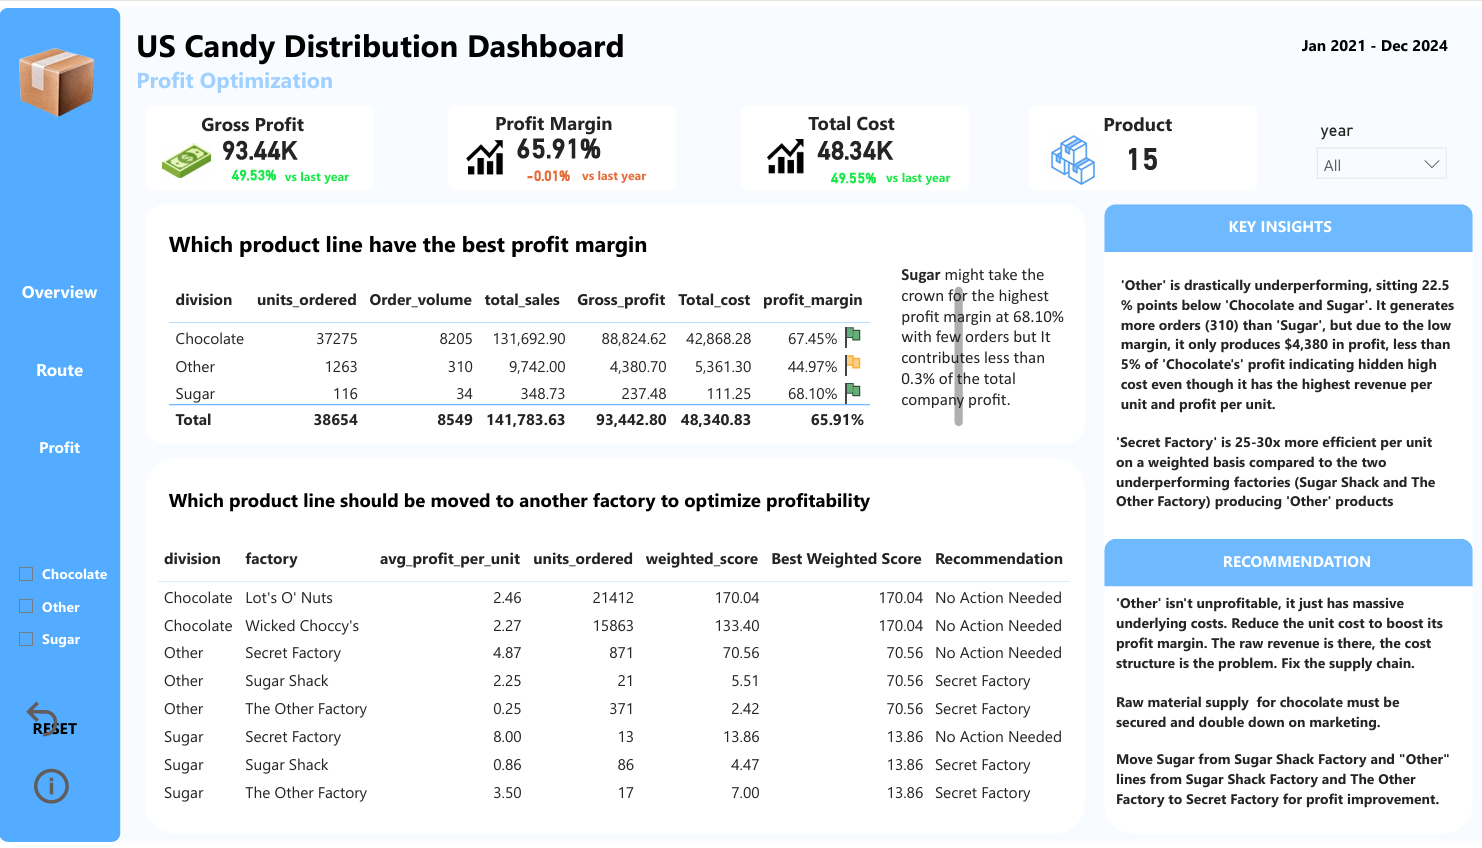

What the dashboard file says about the page in this screenshot:
{"tool":"powerbi","page":{"name":"Profit","canvas":[1280,720],"ordinal":2},"visuals":[{"type":"shape","box":[0,0,106.4,720],"z":0},{"type":"textbox","box":[113.6,9.1,508.2,49.1],"z":1000},{"type":"textbox","box":[113.6,44.5,215.5,40.9],"z":2000},{"type":"shape","box":[952.7,170,317.3,541.8],"z":3000},{"type":"shape","box":[127.3,170,809.1,206.4],"z":4000},{"type":"shape","box":[127.3,389.1,809.1,322.7],"z":5000},{"type":"tableEx","fields":{"Values":["dim_products.division","dim_products.factory","problem_statement.avg_profit_per_unit","kpi.units_ordered","problem_statement.weighted_score","problem_statement.Best Weighted Score","problem_statement.Recommendation"]},"box":[131.8,458.2,801.8,235.5],"z":6000},{"type":"tableEx","fields":{"Values":["dim_products.division","kpi.units_ordered","kpi.Order_volume","kpi.total_sales","kpi.Gross_profit","kpi.Total_cost","problem_statement.profit_margin"]},"box":[141.8,235.5,694.5,137.3],"z":7000},{"type":"textbox","box":[141.8,186.4,537.3,49.1],"z":8000},{"type":"textbox","box":[141.8,409.1,650.9,49.1],"z":9000},{"type":"shape","box":[127.3,85.5,196.4,72.7],"z":10000},{"type":"shape","box":[388.2,85.5,196.4,72.7],"z":11000},{"type":"shape","box":[640,85.5,196.4,72.7],"z":12000},{"type":"shape","box":[888.2,85.5,196.4,72.7],"z":13000},{"type":"slicer","fields":{"Values":["calendar.year"]},"box":[1126.4,92.7,131.8,65.5],"z":14000},{"type":"card","fields":{"Values":["problem_statement.profit_margin"]},"box":[410.9,85.5,143.6,72.7],"z":15000},{"type":"card","fields":{"Values":["kpi.Gross_profit"]},"box":[141.8,85.5,166.4,76.4],"z":16000},{"type":"card","fields":{"Values":["kpi.product_count"]},"box":[926.4,103.6,119.1,51.8],"z":17000},{"type":"card","fields":{"Values":["kpi.Total_cost"]},"box":[674.5,90.9,126.4,64.5],"z":18000},{"type":"slicer","fields":{"Values":["dim_products.division"]},"box":[4.5,469.1,97.3,110.9],"z":19000},{"type":"actionButton","box":[26.4,650.9,53.6,40],"z":20000},{"type":"pageNavigator","box":[8.2,216.4,90.9,193.6],"z":21000},{"type":"textbox","box":[947.3,85.5,98.2,46.4],"z":22000},{"type":"textbox","box":[692.7,83.6,108.2,31.8],"z":23000},{"type":"textbox","box":[422.7,83.6,149.1,38.2],"z":24000},{"type":"textbox","box":[170,85.5,125.5,36.4],"z":25000},{"type":"textbox","box":[961.8,224.5,300,135.5],"z":26000},{"type":"textbox","box":[958.2,360,300,86.4],"z":27000},{"type":"textbox","box":[958.2,499.1,300,137.3],"z":28000},{"type":"textbox","box":[958.2,632.7,300,70],"z":29000},{"type":"shape","box":[952.7,170,317.3,40.9],"z":30000},{"type":"shape","box":[952.7,458.2,317.3,40.9],"z":31000},{"type":"textbox","box":[1055.5,174.5,105.5,32.7],"z":32000},{"type":"textbox","box":[1050,462.7,151.8,32.7],"z":33000},{"type":"textbox","box":[772.7,216.4,153.6,150],"z":34000},{"type":"textbox","box":[498,130.3,66.1,29.2],"z":35000},{"type":"textbox","box":[760,132,66,29],"z":36000},{"type":"textbox","box":[242,131,66,29],"z":37000},{"type":"card","fields":{"Values":["kpi.profit_margin_pct_change"]},"box":[442,132,64,24],"z":38000},{"type":"card","fields":{"Values":["kpi.gross_profit_pct_change"]},"box":[184,132,73,25],"z":39000},{"type":"card","fields":{"Values":["kpi.cost_pct_change"]},"box":[701,134,72,24],"z":40000},{"type":"image","box":[898.7,109.9,54.5,43.8],"z":41000},{"type":"image","box":[142,110.9,41.8,44.7],"z":42000},{"type":"image","box":[399,111.7,39.9,34.6],"z":43000},{"type":"image","box":[657.9,110.8,39.9,34.6],"z":44000},{"type":"textbox","box":[1118.2,19.1,143.6,28.2],"z":45000},{"type":"image","box":[7.1,25.7,91.3,77.1],"z":46000},{"type":"actionButton","box":[18.2,592.7,61.8,40],"z":46001}]}

Visuals, with their boxes in screenshot pixels (x1, y1, x2, y2), scaled from the page's 1280x720 canvas onto the 1482x848 screenshot:
shape: [x1=0, y1=0, x2=123, y2=847]
textbox: [x1=132, y1=11, x2=720, y2=69]
textbox: [x1=132, y1=52, x2=381, y2=101]
shape: [x1=1103, y1=200, x2=1470, y2=838]
shape: [x1=147, y1=200, x2=1084, y2=443]
shape: [x1=147, y1=458, x2=1084, y2=838]
tableEx - dim_products.division x dim_products.factory: [x1=153, y1=540, x2=1081, y2=817]
tableEx - dim_products.division x kpi.units_ordered: [x1=164, y1=277, x2=968, y2=439]
textbox: [x1=164, y1=220, x2=786, y2=277]
textbox: [x1=164, y1=482, x2=918, y2=540]
shape: [x1=147, y1=101, x2=375, y2=186]
shape: [x1=449, y1=101, x2=677, y2=186]
shape: [x1=741, y1=101, x2=968, y2=186]
shape: [x1=1028, y1=101, x2=1256, y2=186]
slicer - calendar.year: [x1=1304, y1=109, x2=1457, y2=186]
card - problem_statement.profit_margin: [x1=476, y1=101, x2=642, y2=186]
card - kpi.Gross_profit: [x1=164, y1=101, x2=357, y2=191]
card - kpi.product_count: [x1=1073, y1=122, x2=1210, y2=183]
card - kpi.Total_cost: [x1=781, y1=107, x2=927, y2=183]
slicer - dim_products.division: [x1=5, y1=552, x2=118, y2=683]
actionButton: [x1=31, y1=767, x2=93, y2=814]
pageNavigator: [x1=9, y1=255, x2=115, y2=483]
textbox: [x1=1097, y1=101, x2=1210, y2=155]
textbox: [x1=802, y1=98, x2=927, y2=136]
textbox: [x1=489, y1=98, x2=662, y2=143]
textbox: [x1=197, y1=101, x2=342, y2=144]
textbox: [x1=1114, y1=264, x2=1461, y2=424]
textbox: [x1=1109, y1=424, x2=1457, y2=526]
textbox: [x1=1109, y1=588, x2=1457, y2=750]
textbox: [x1=1109, y1=745, x2=1457, y2=828]
shape: [x1=1103, y1=200, x2=1470, y2=248]
shape: [x1=1103, y1=540, x2=1470, y2=588]
textbox: [x1=1222, y1=206, x2=1344, y2=244]
textbox: [x1=1216, y1=545, x2=1391, y2=583]
textbox: [x1=895, y1=255, x2=1072, y2=432]
textbox: [x1=577, y1=153, x2=653, y2=188]
textbox: [x1=880, y1=155, x2=956, y2=190]
textbox: [x1=280, y1=154, x2=357, y2=188]
card - kpi.profit_margin_pct_change: [x1=512, y1=155, x2=586, y2=184]
card - kpi.gross_profit_pct_change: [x1=213, y1=155, x2=298, y2=185]
card - kpi.cost_pct_change: [x1=812, y1=158, x2=895, y2=186]
image: [x1=1041, y1=129, x2=1104, y2=181]
image: [x1=164, y1=131, x2=213, y2=183]
image: [x1=462, y1=132, x2=508, y2=172]
image: [x1=762, y1=130, x2=808, y2=171]
textbox: [x1=1295, y1=22, x2=1461, y2=56]
image: [x1=8, y1=30, x2=114, y2=121]
actionButton: [x1=21, y1=698, x2=93, y2=745]
